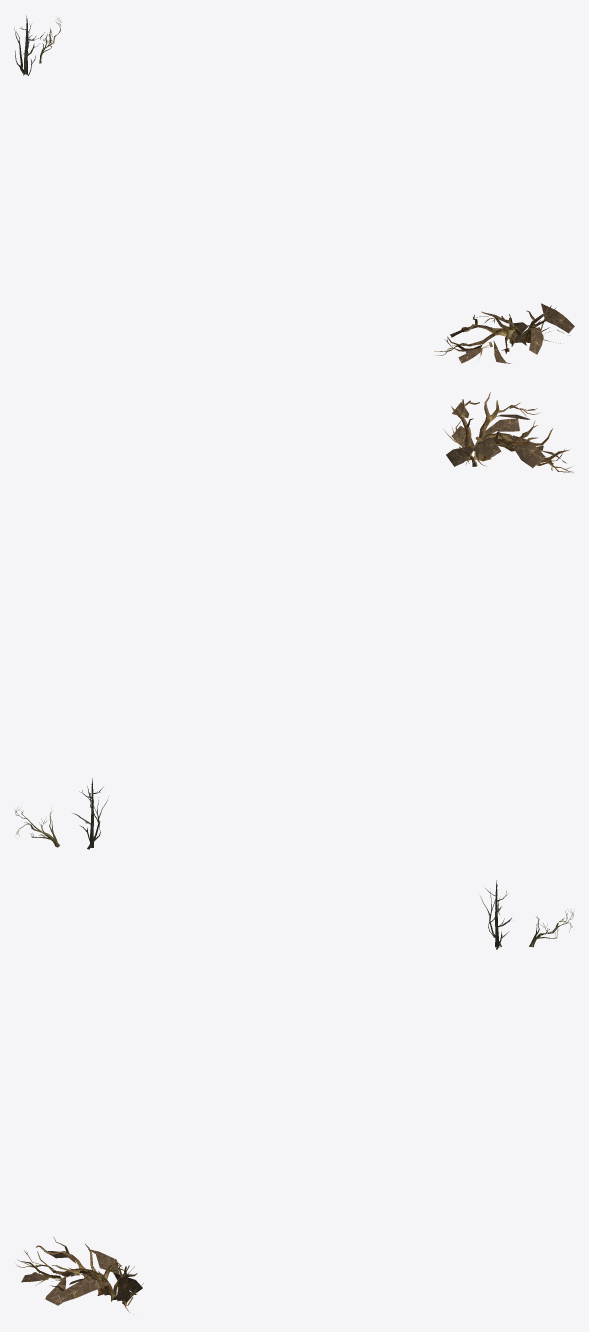
The model's file is S_Tree_3100_009.FBX.
3 views of the same model, one above another, from view 1: azimuth 30°, elevation 25°; view 2: azimuth 150°, elevation 25°; view 3: azimuth 330°, elevation 25° (orthographic). The views are drawn at different scales.
Visible parts, largest first — view 1: S_Tree_Yellow045_A1, S_Tree_Yellow010_A1; view 2: S_Tree_Yellow045_A1; view 3: S_Tree_Yellow045_A1.
Boxes of the visible parts, x1,y1,x2,y2 form: S_Tree_Yellow045_A1: [434, 303, 574, 363]; S_Tree_Yellow010_A1: [14, 15, 46, 75]; S_Tree_Yellow045_A1: [443, 392, 573, 472]; S_Tree_Yellow045_A1: [16, 1237, 143, 1314].
Bounding box in the file's own units: 2850 × 1324 × 18223.
